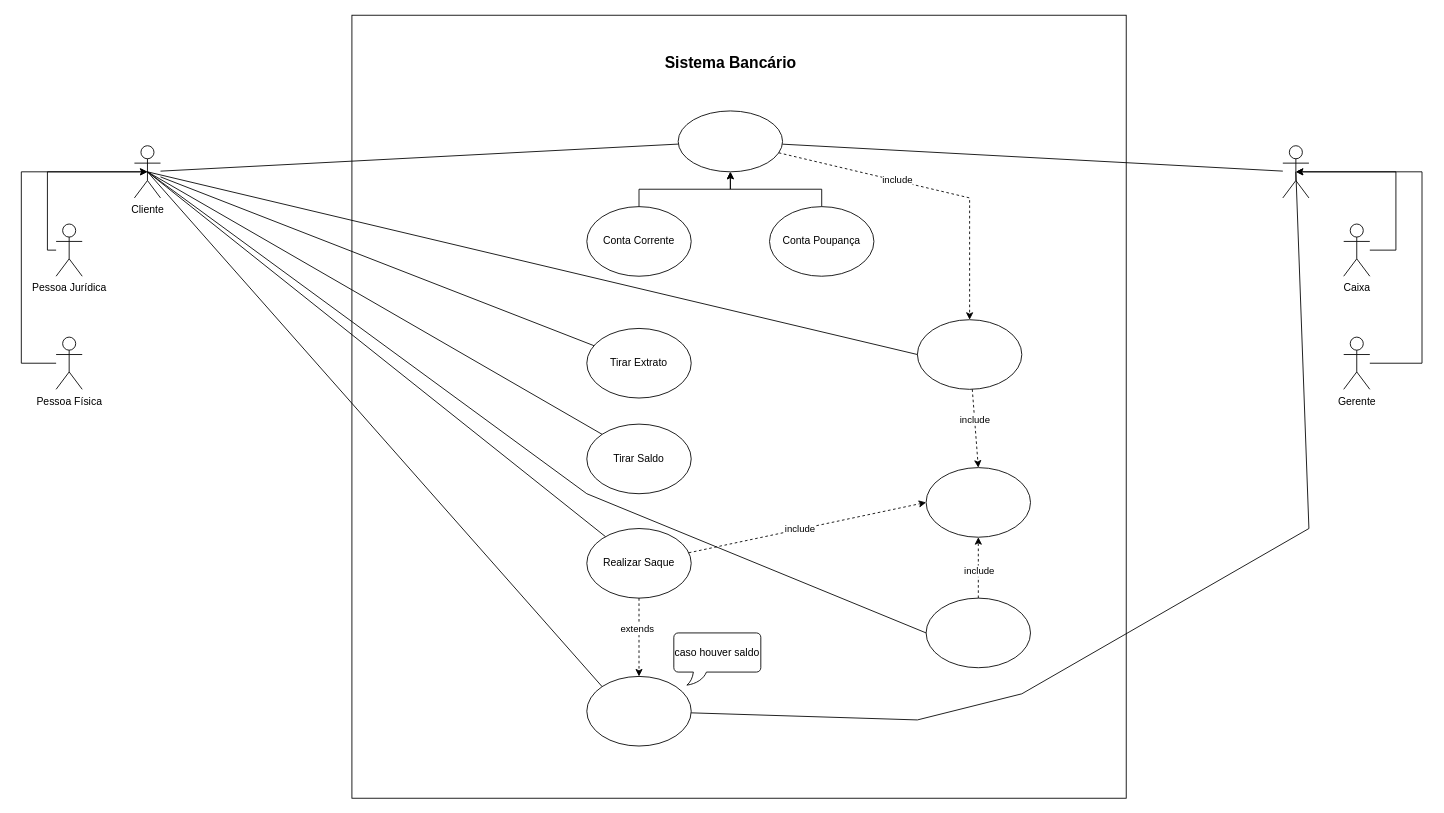
The diagram is 1444 pixels wide and 813 high, and some of its shapes have lost their labels. The box of each missing label's shape, as (x1, y1, x2, y2) in pixels:
Abrir Conta: (677, 110, 783, 172)
Encerrar Conta: (586, 676, 691, 746)
Fazer Depósito: (917, 319, 1022, 389)
Funcionário: (1282, 145, 1309, 198)
Registrar Transação: (925, 467, 1031, 537)
Transferência Bancária: (925, 597, 1031, 668)
